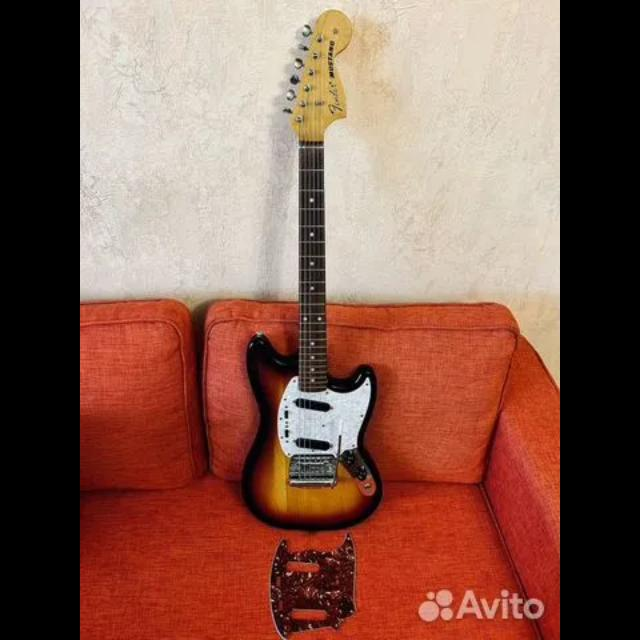Electric-Guitar: (240, 11, 380, 531)
